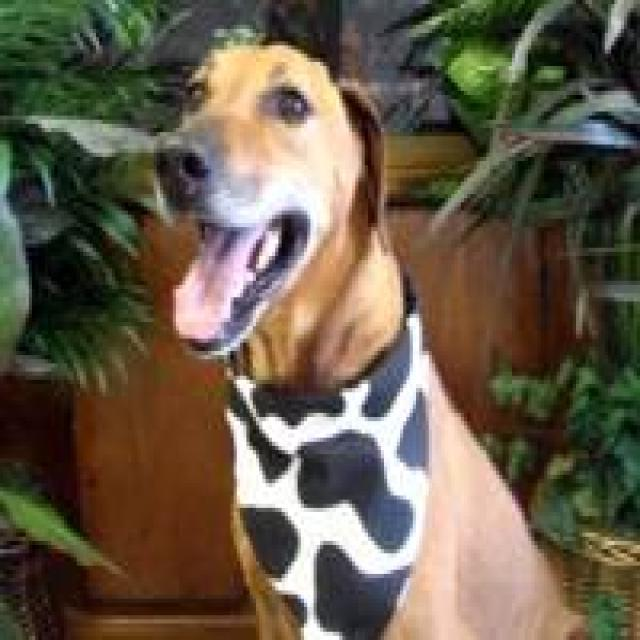dogs: (141, 22, 596, 640)
